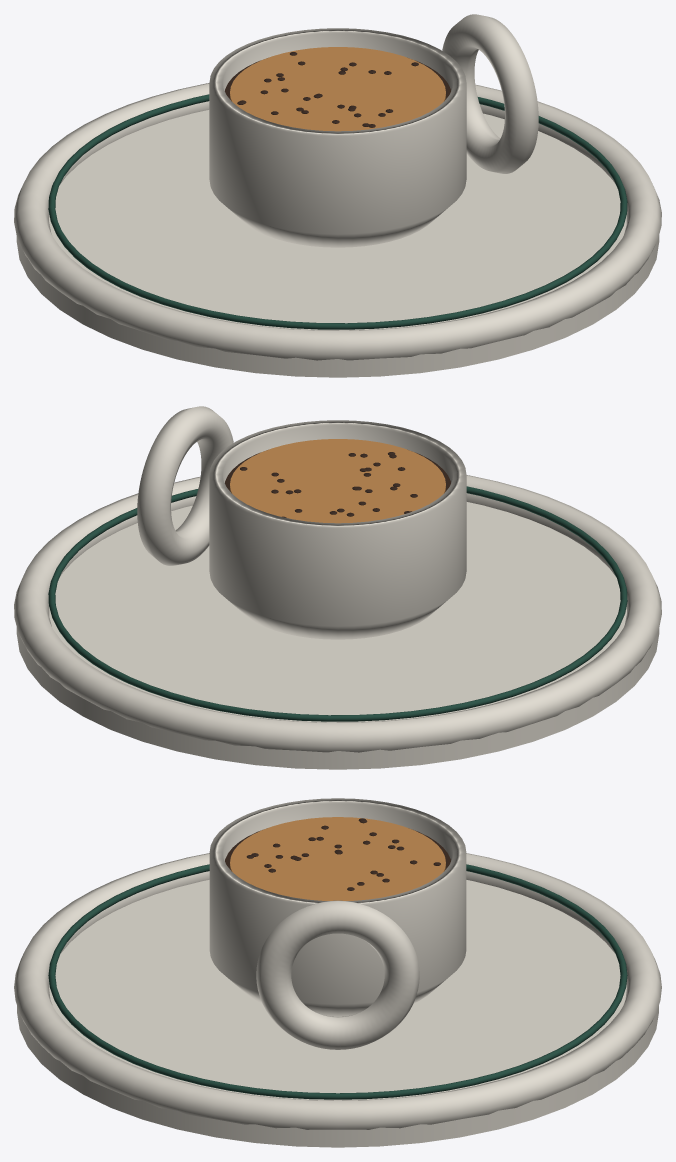
Rendered from coffee-small.glb.
3 views of the same model, one above another, from view 1: azimuth 30°, elevation 25°; view 2: azimuth 150°, elevation 25°; view 3: azimuth 270°, elevation 25° (orthographic).
Visible parts, largest first — view 1: Morsel original coffee small; view 2: Morsel original coffee small; view 3: Morsel original coffee small.
Part boxes in pixels (x1,y1,x2,y2): Morsel original coffee small: (14,14,661,377); Morsel original coffee small: (14,406,661,769); Morsel original coffee small: (14,798,661,1147).
Size of the model in its own units: 2.22 by 0.6985 by 2.22.
